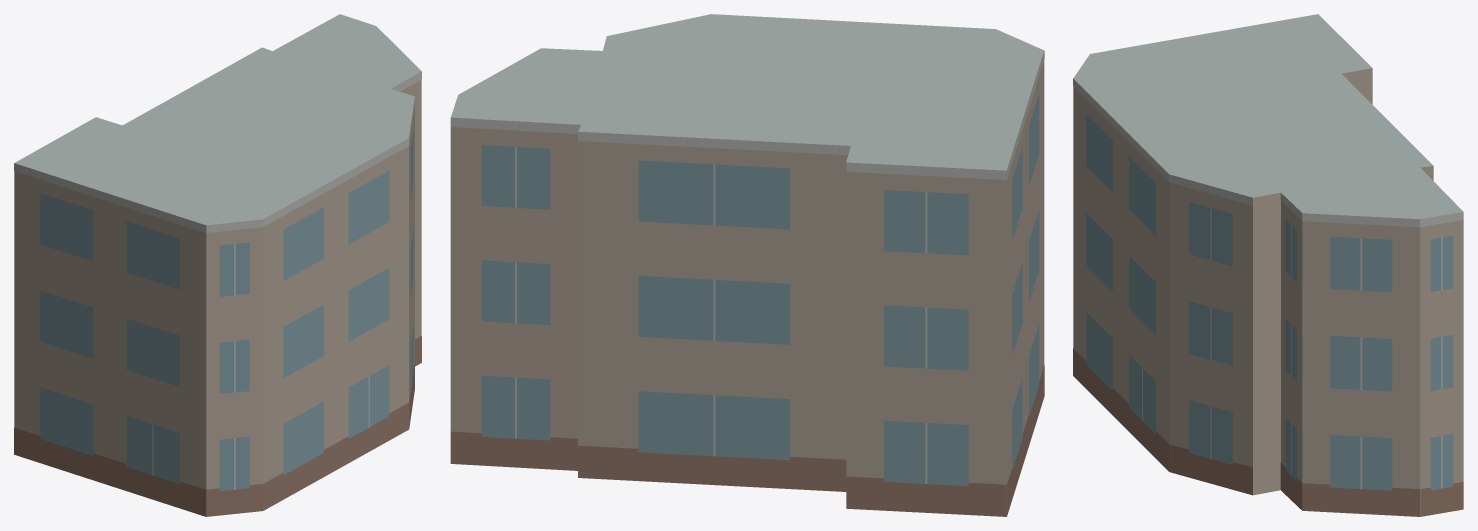
The model's file is survey-upis-32620299.glb.
3 views of the same model, side by side, from view 1: azimuth 30°, elevation 25°; view 2: azimuth 150°, elevation 25°; view 3: azimuth 270°, elevation 25° (orthographic). The views are drawn at different scales.
Visible parts, largest first — view 1: survey-upis-32620299.tmp; view 2: survey-upis-32620299.tmp; view 3: survey-upis-32620299.tmp.
Boxes of the visible parts, x1=… form: survey-upis-32620299.tmp: x1=14, y1=14, x2=421, y2=516; survey-upis-32620299.tmp: x1=450, y1=14, x2=1044, y2=516; survey-upis-32620299.tmp: x1=1073, y1=14, x2=1463, y2=516.
Bounding box in the file's own units: 13.4 × 9.05 × 10.77.
